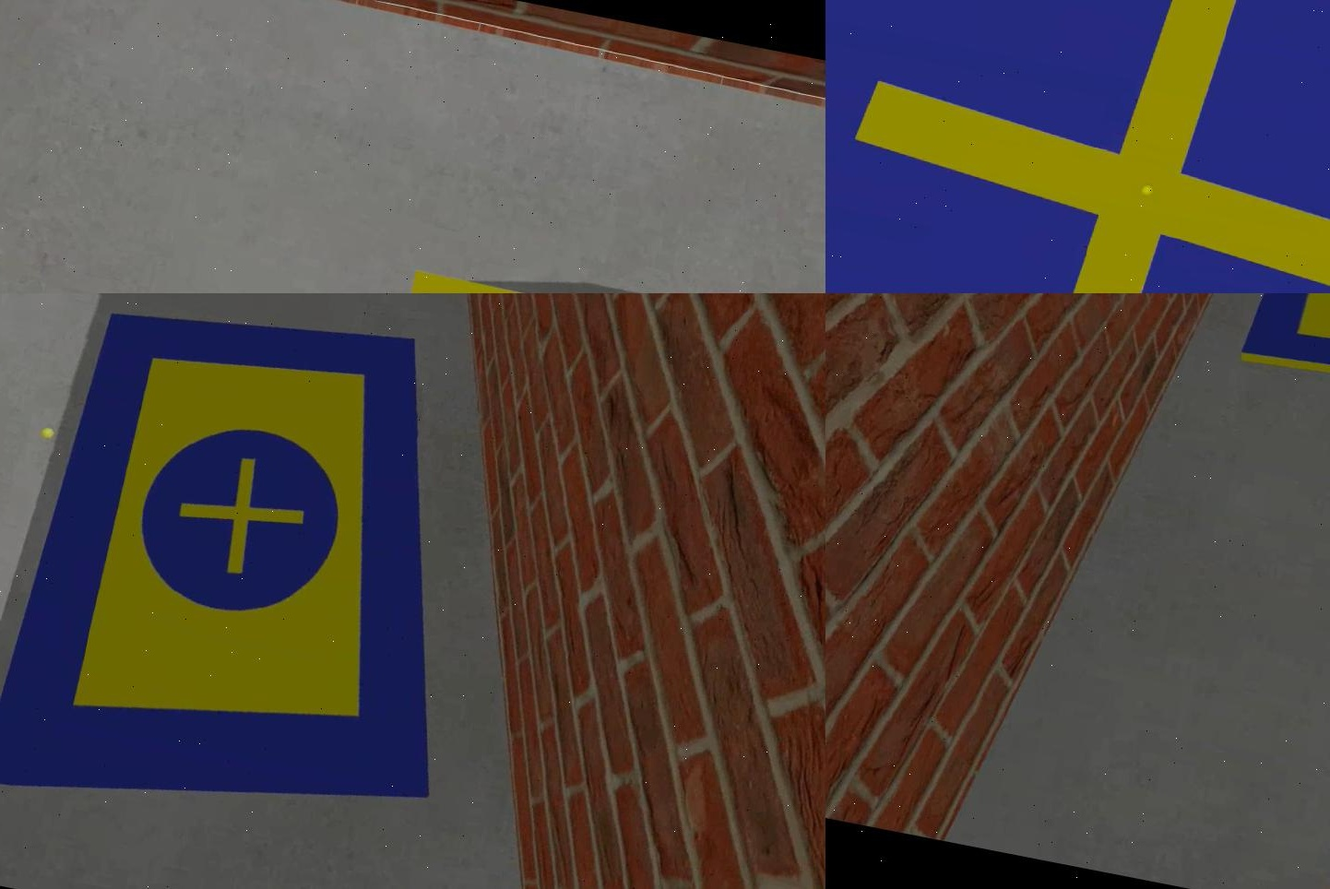large_base: (0, 293, 513, 871)
small_base: (824, 1, 1328, 293)
